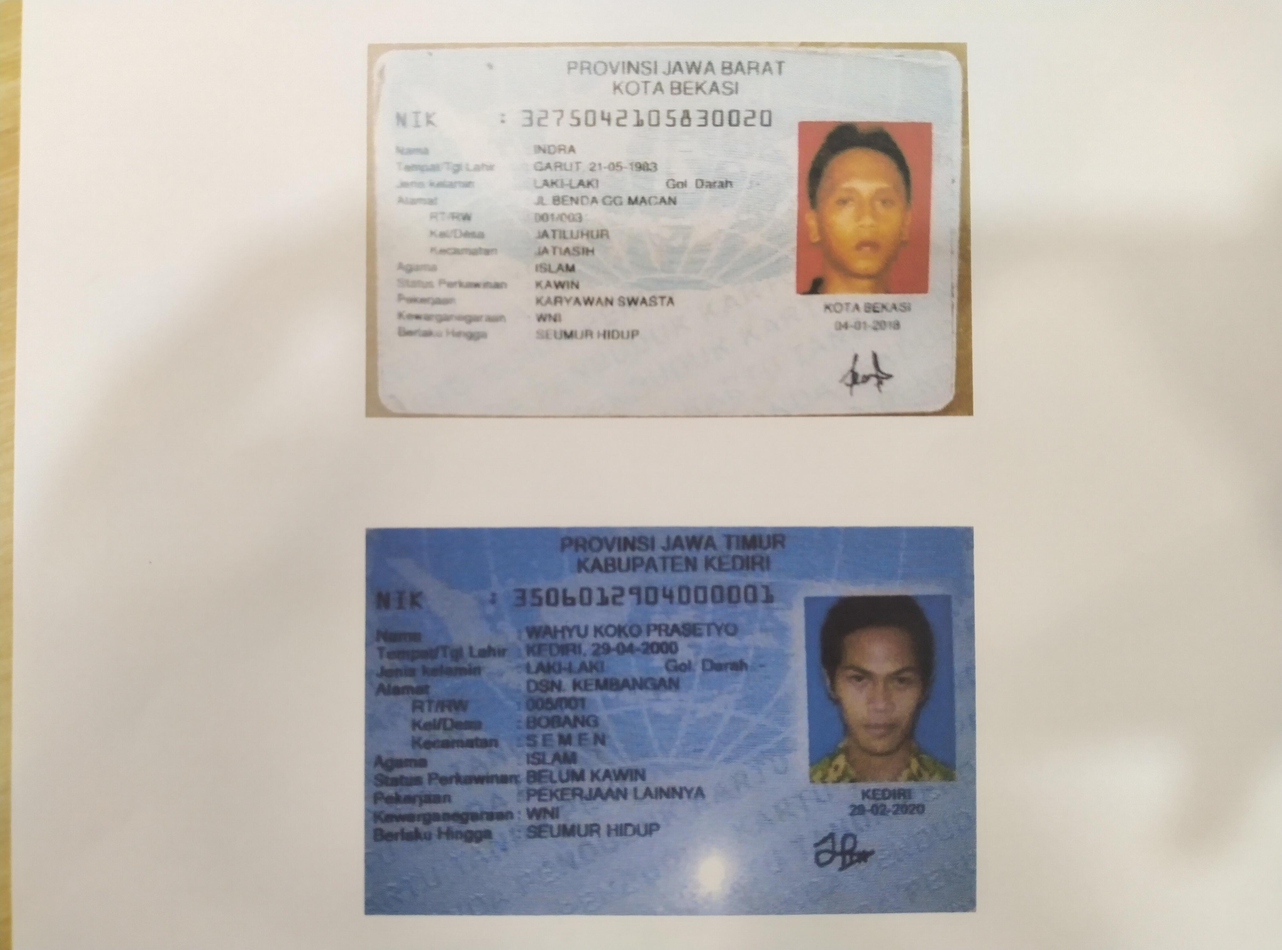ID-card: (364, 527, 971, 905), (374, 52, 953, 403)
